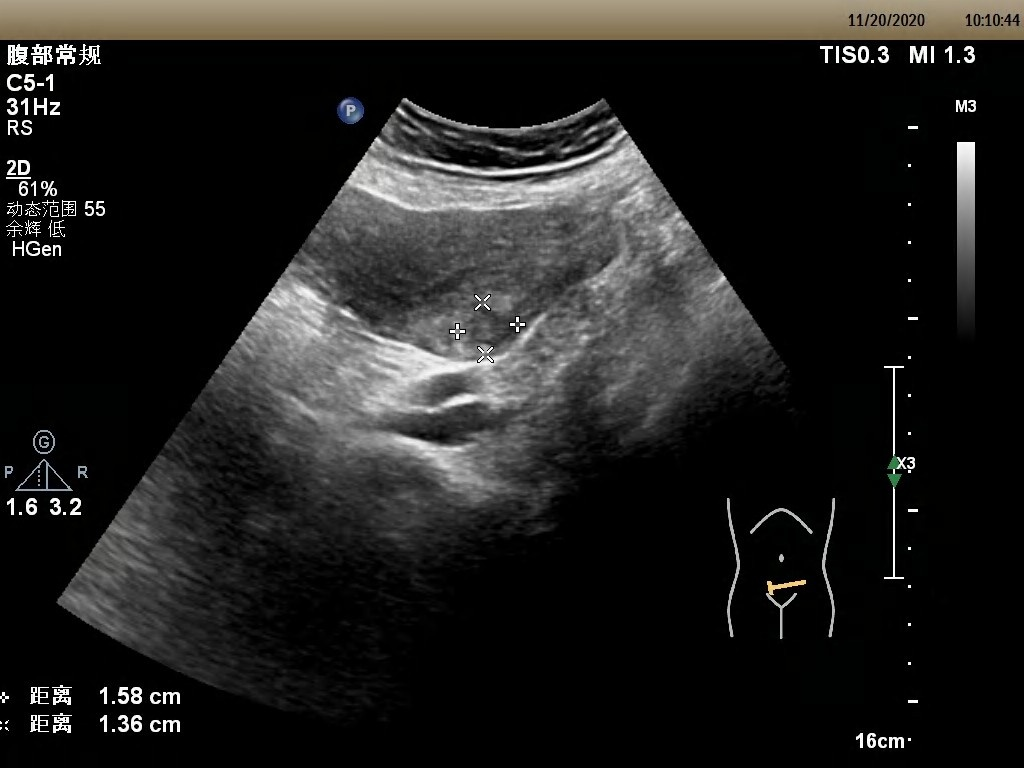肌瘤: (457, 310, 512, 353)
